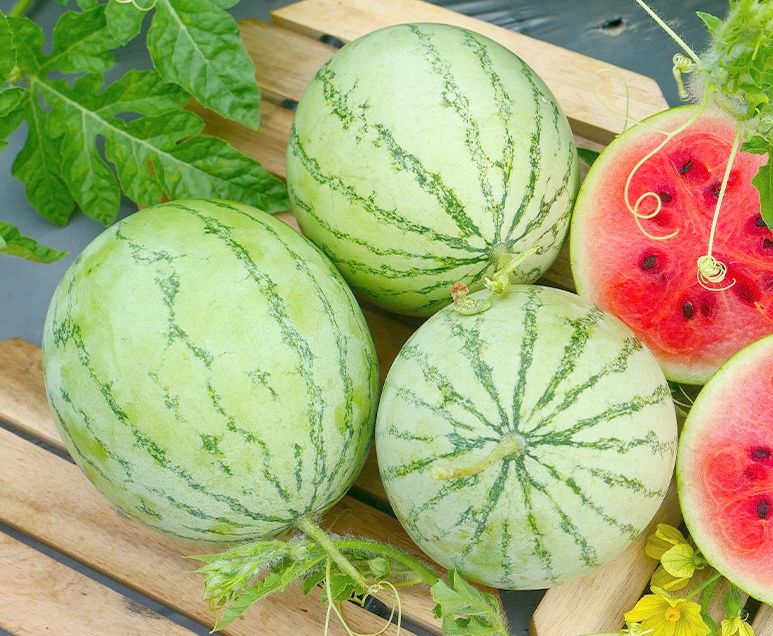watermelon: (39, 207, 377, 544), (382, 282, 678, 605), (277, 22, 575, 301)
